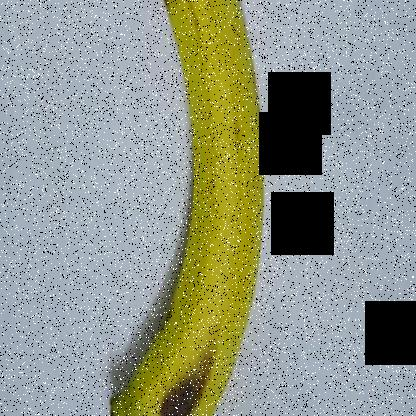freshripe: (104, 1, 274, 416)
